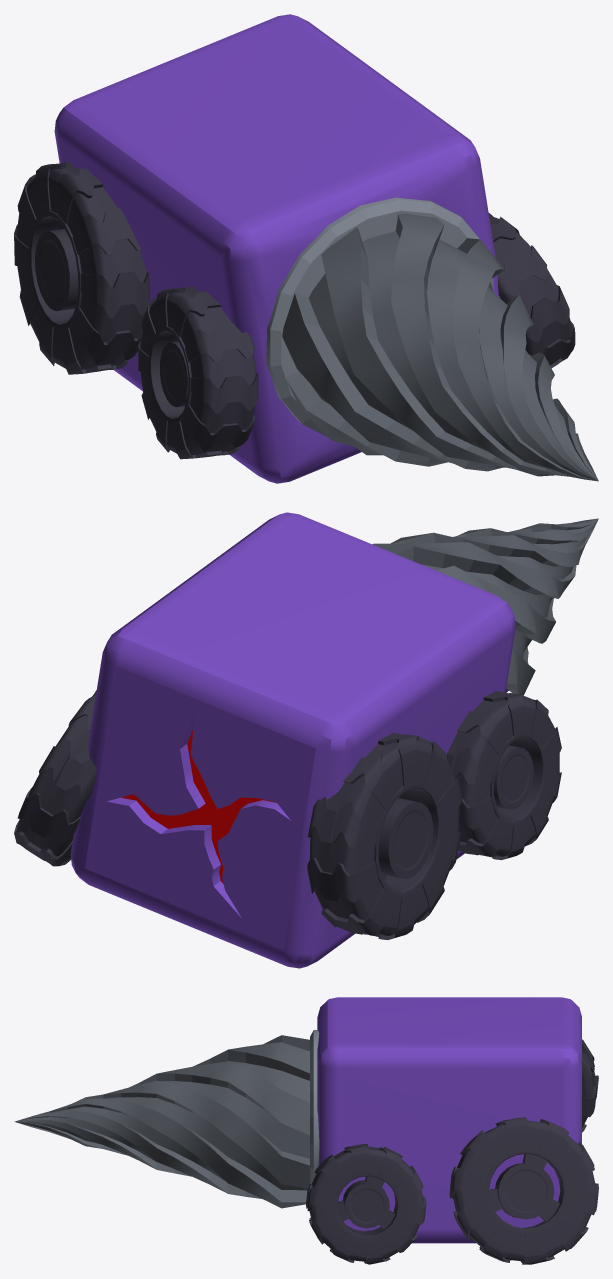
The model's file is DrillEnemy2.fbx.
3 renders of one model, top to bottom at view 1: azimuth 30°, elevation 25°; view 2: azimuth 150°, elevation 25°; view 3: azimuth 270°, elevation 25°, orthographic. The views are drawn at different scales.
Parts seen in each view (by area): view 1: polySurface1; view 2: polySurface1; view 3: polySurface1.
Boxes of the visible parts, bbox=[...] form: polySurface1: bbox=[14, 14, 598, 483]; polySurface1: bbox=[14, 512, 598, 968]; polySurface1: bbox=[14, 997, 598, 1264].
Bounding box in the file's own units: 38.09 × 28.05 × 70.79.
